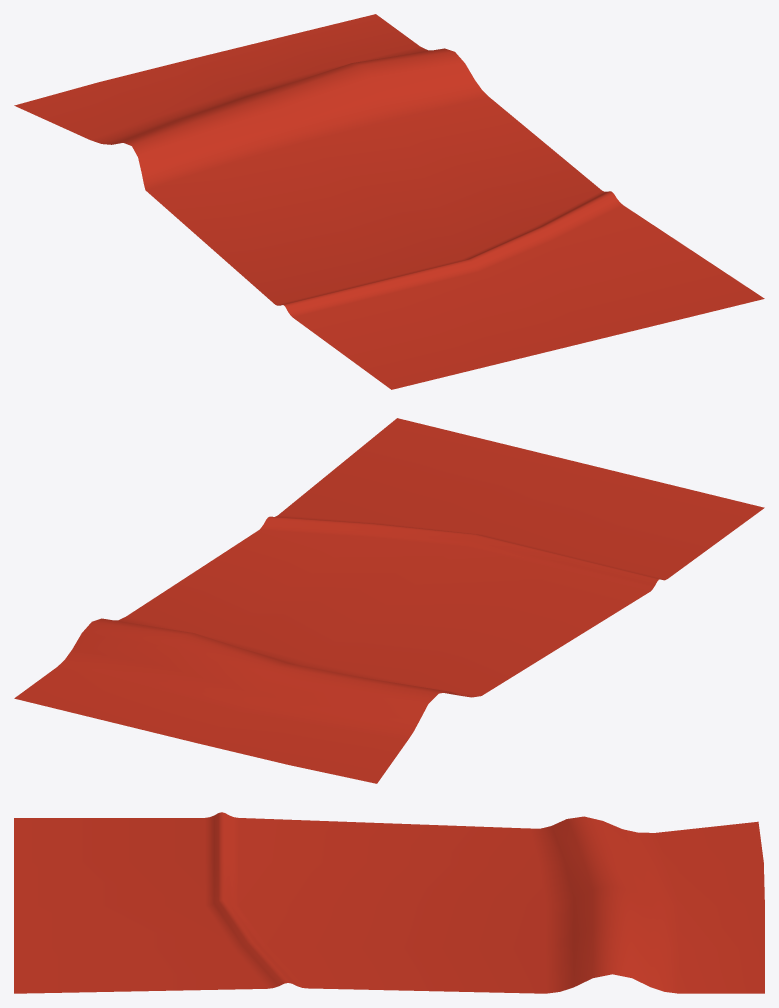
The model's file is carpet_plane_lump_2.fbx.
3 renders of one model, top to bottom at view 1: azimuth 30°, elevation 25°; view 2: azimuth 150°, elevation 25°; view 3: azimuth 270°, elevation 25°, orthographic. The views are drawn at different scales.
Parts seen in each view (by area): view 1: carpet_plane_lump_2; view 2: carpet_plane_lump_2; view 3: carpet_plane_lump_2.
Part boxes in pixels (left/top/right/bottom): carpet_plane_lump_2: left=14, top=14, right=764, bottom=389; carpet_plane_lump_2: left=14, top=418, right=764, bottom=783; carpet_plane_lump_2: left=14, top=812, right=764, bottom=993.
Bounding box in the file's own units: 200 × 15.41 × 361.
